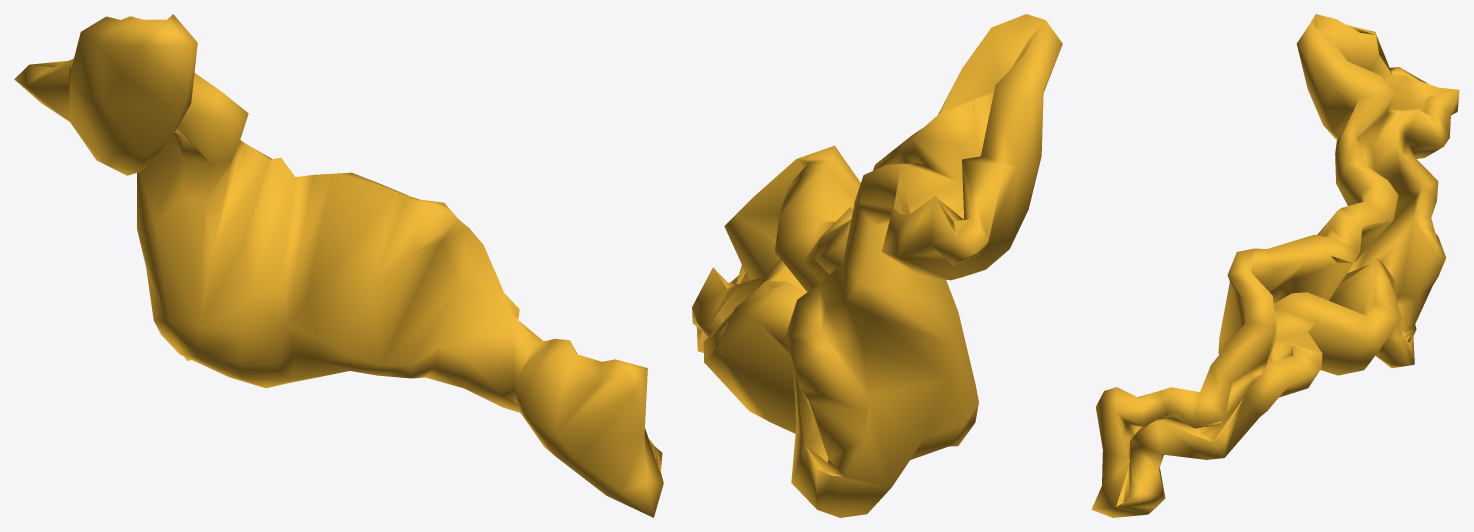
Rendered from nervoso-postcentral-sulcus-l.glb.
3 views of the same model, side by side, from view 1: azimuth 30°, elevation 25°; view 2: azimuth 150°, elevation 25°; view 3: azimuth 270°, elevation 25° (orthographic). The views are drawn at different scales.
Parts seen in each view (by area): view 1: Postcentral sulcus.l; view 2: Postcentral sulcus.l; view 3: Postcentral sulcus.l.
Boxes of the visible parts, x1,y1,x2,y2 form: Postcentral sulcus.l: (14,14,663,517); Postcentral sulcus.l: (692,14,1062,517); Postcentral sulcus.l: (1091,14,1459,517).
Bounding box in the file's own units: 0.0422 × 0.0447 × 0.0406.
